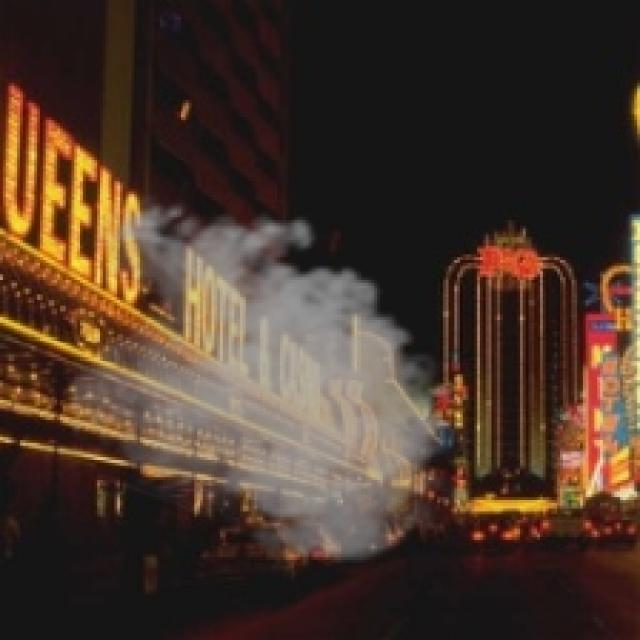smoke: (68, 192, 466, 572)
